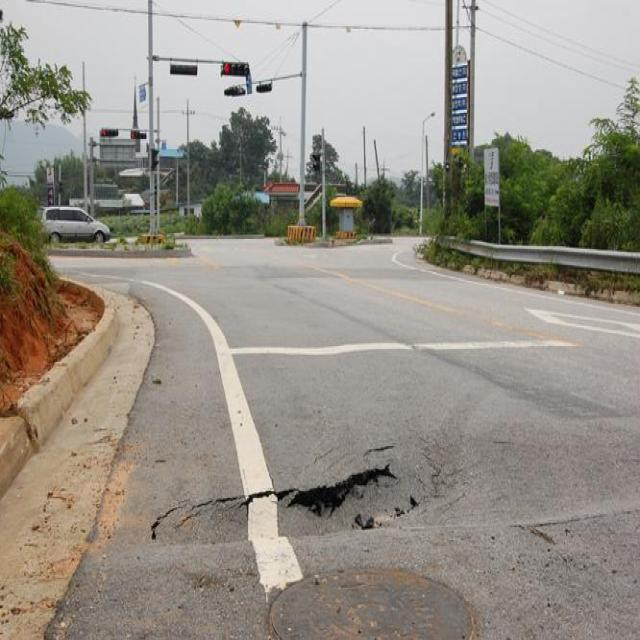asphalt: (53, 239, 639, 639)
cement: (0, 290, 154, 639), (0, 282, 121, 498)
red-sand: (0, 232, 103, 416)
